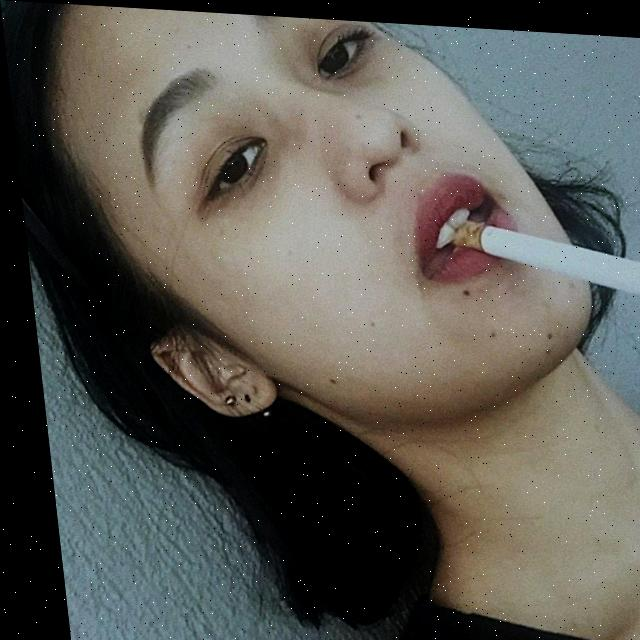cigarette: (445, 210, 640, 294)
